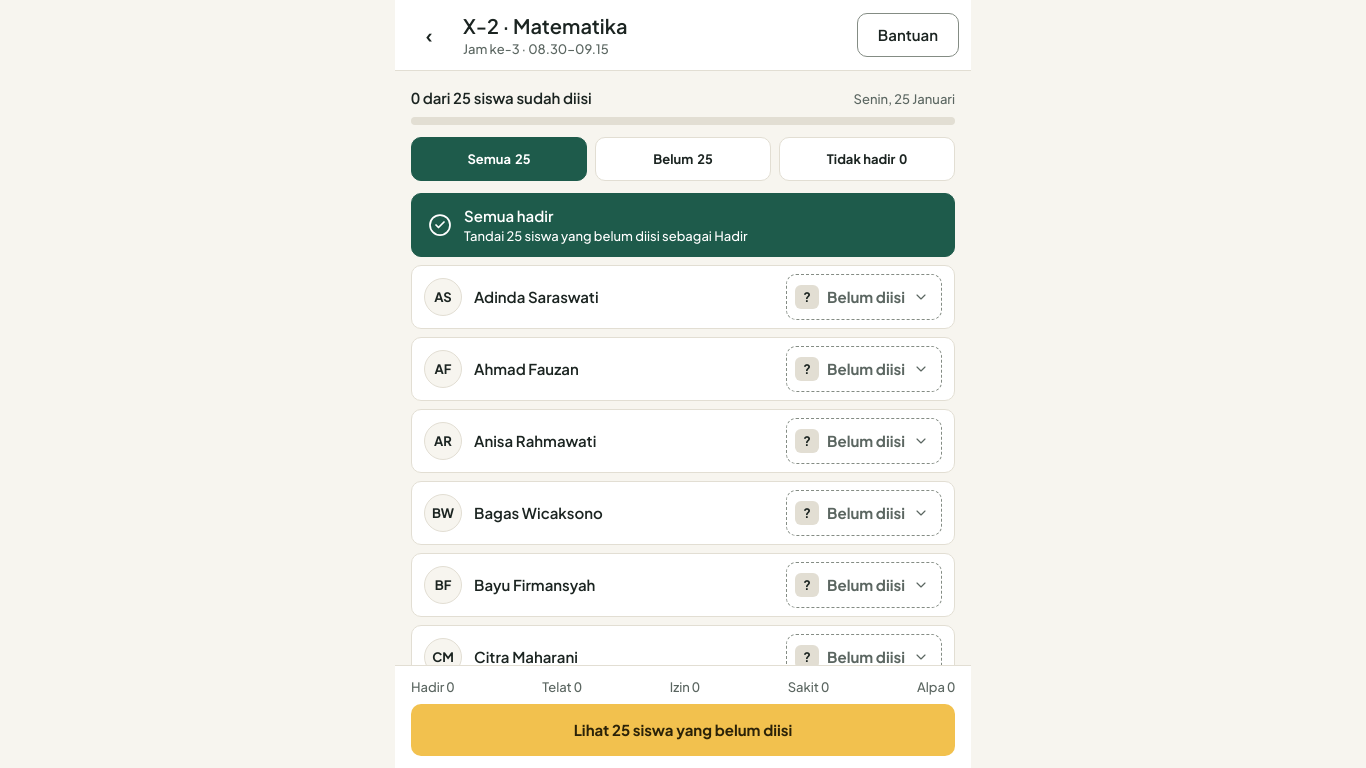
it: step 5: check before sending › says "Semua siswa hadir." when nobody is absent, and leaves out the WhatsApp sentence
Click the button "Semua hadir Tandai 25 siswa yang belum diisi sebagai Hadir" at (683, 225), box [411,193,955,257]
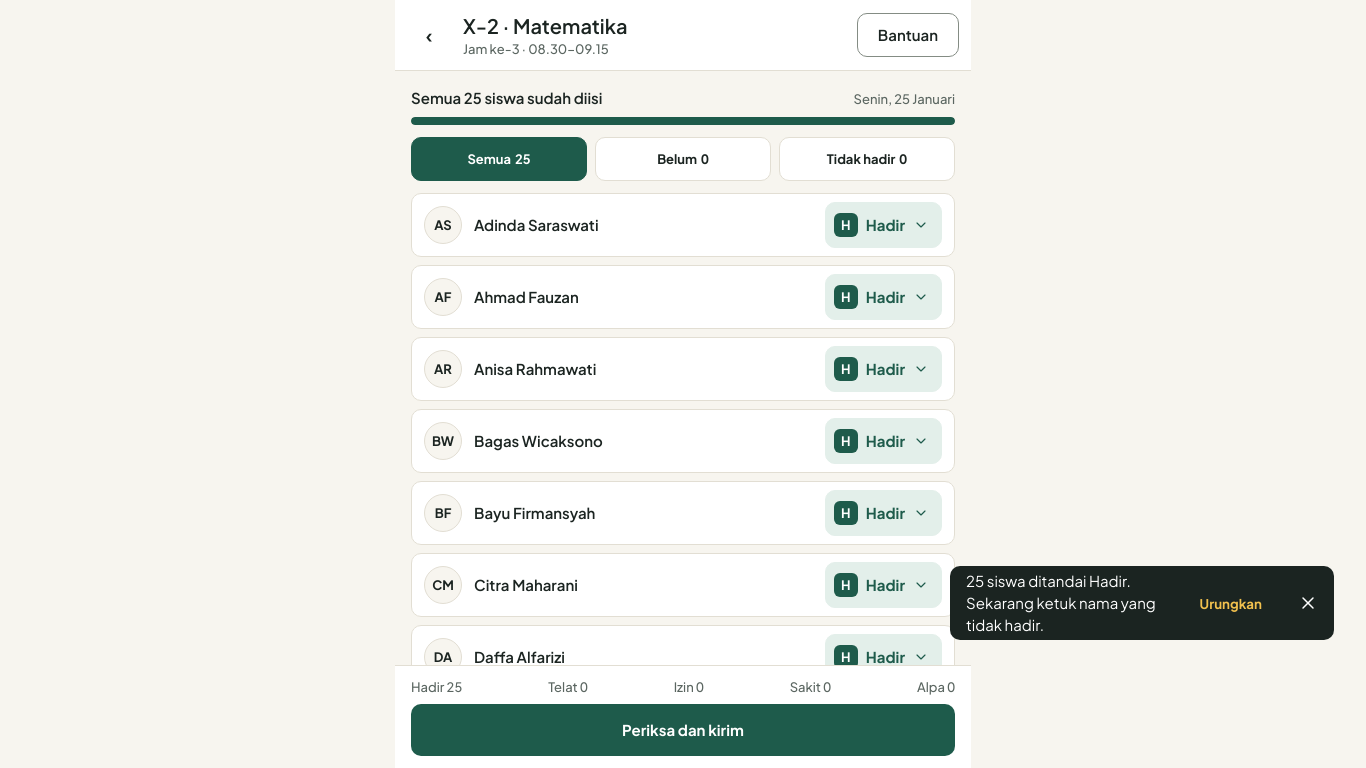
Click the button "Periksa dan kirim" at (683, 730), box [411,704,955,756]
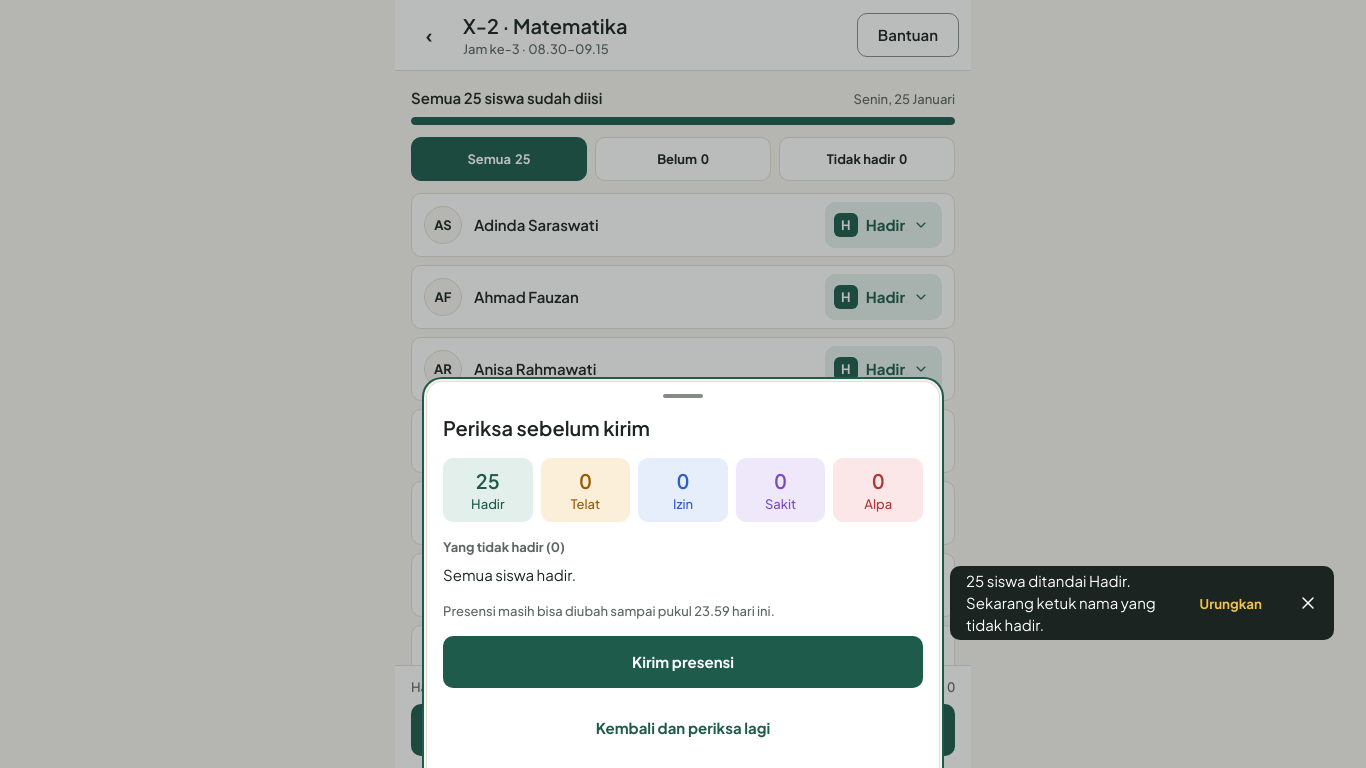
Now the text "Semua siswa hadir." is shown, box [443,565,576,584]
Now the text "Presensi masih bisa diubah sampai pukul 23.59 hari ini." is shown, box [443,603,775,619]
